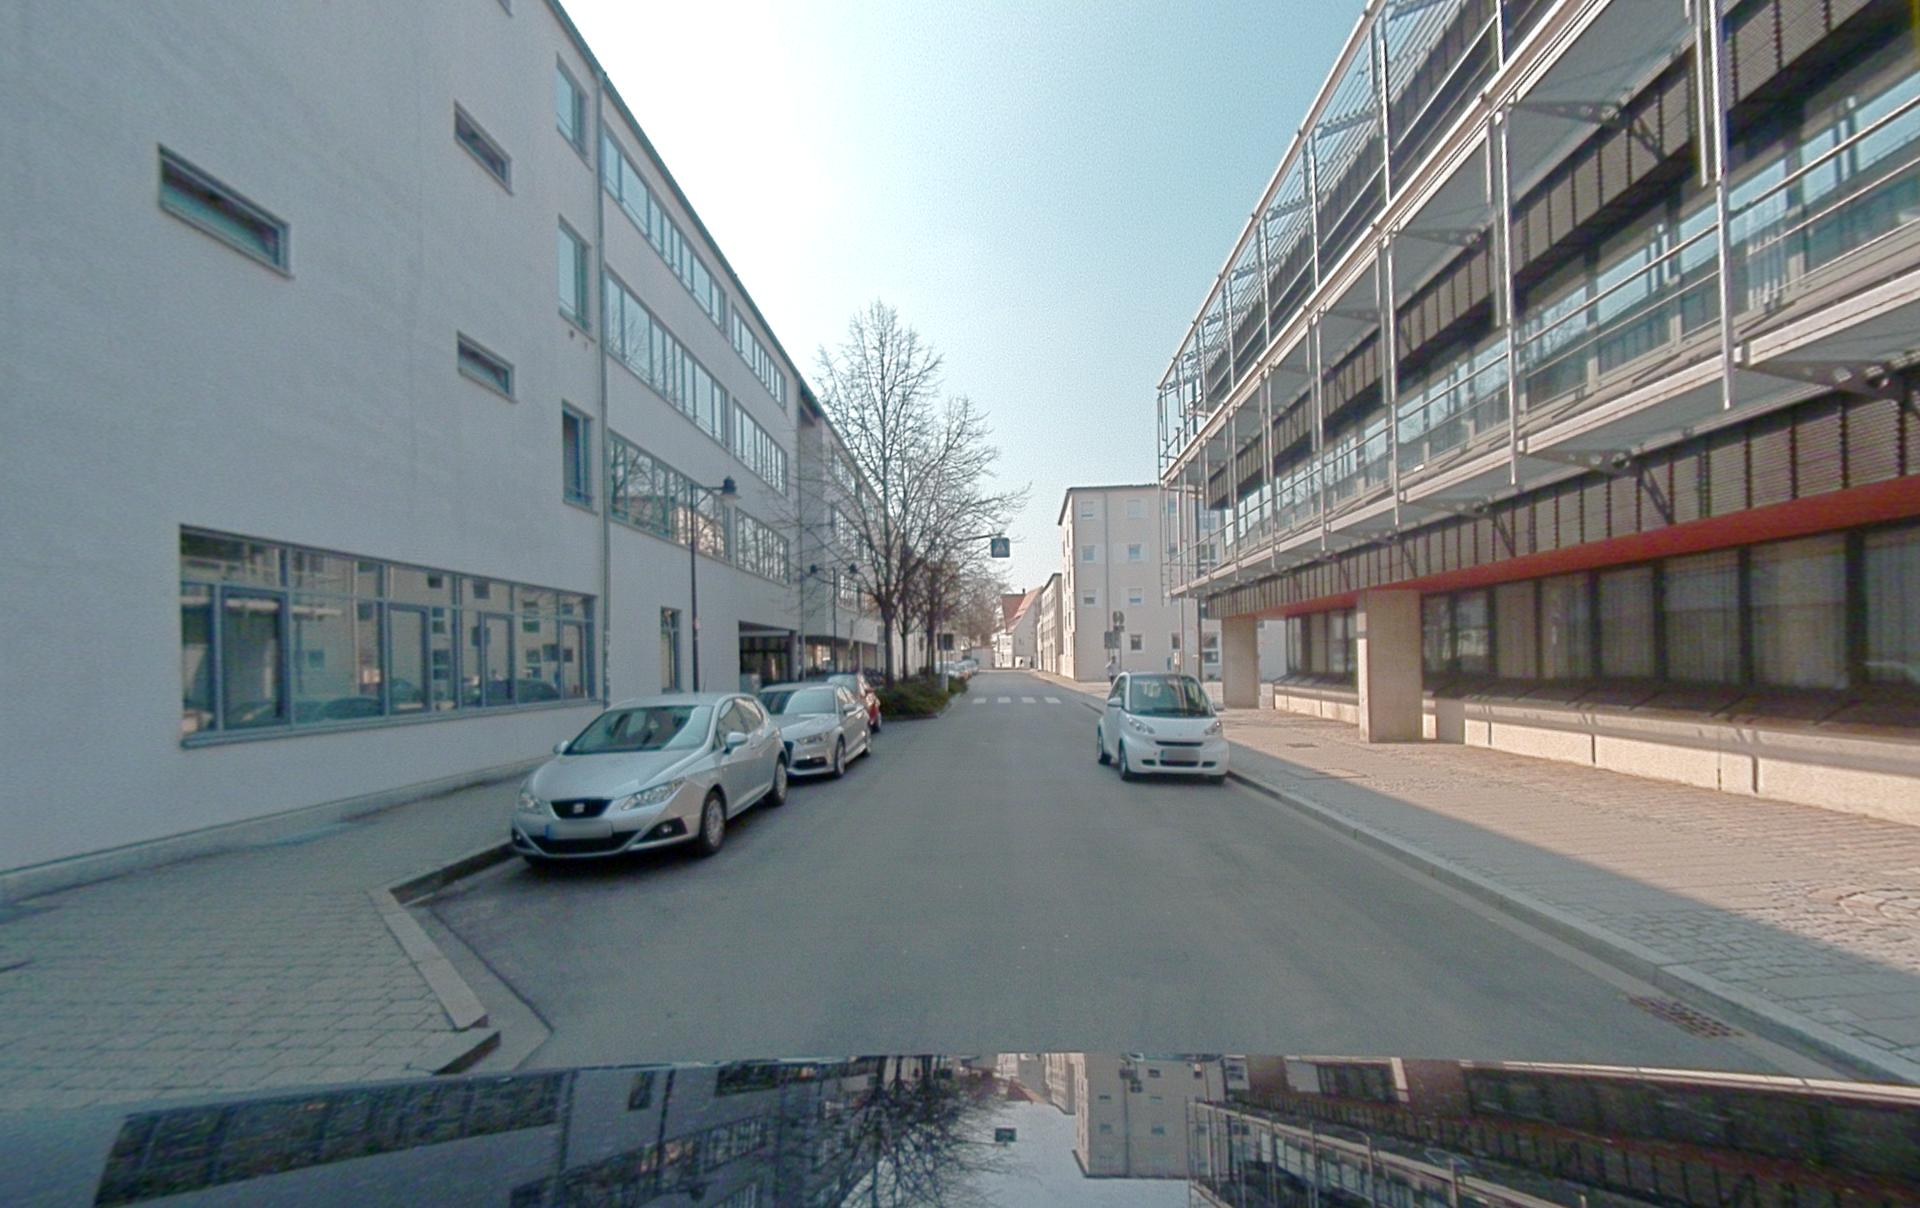car: (511, 692, 787, 867), (1096, 672, 1226, 782), (760, 683, 871, 777), (826, 674, 881, 732)
